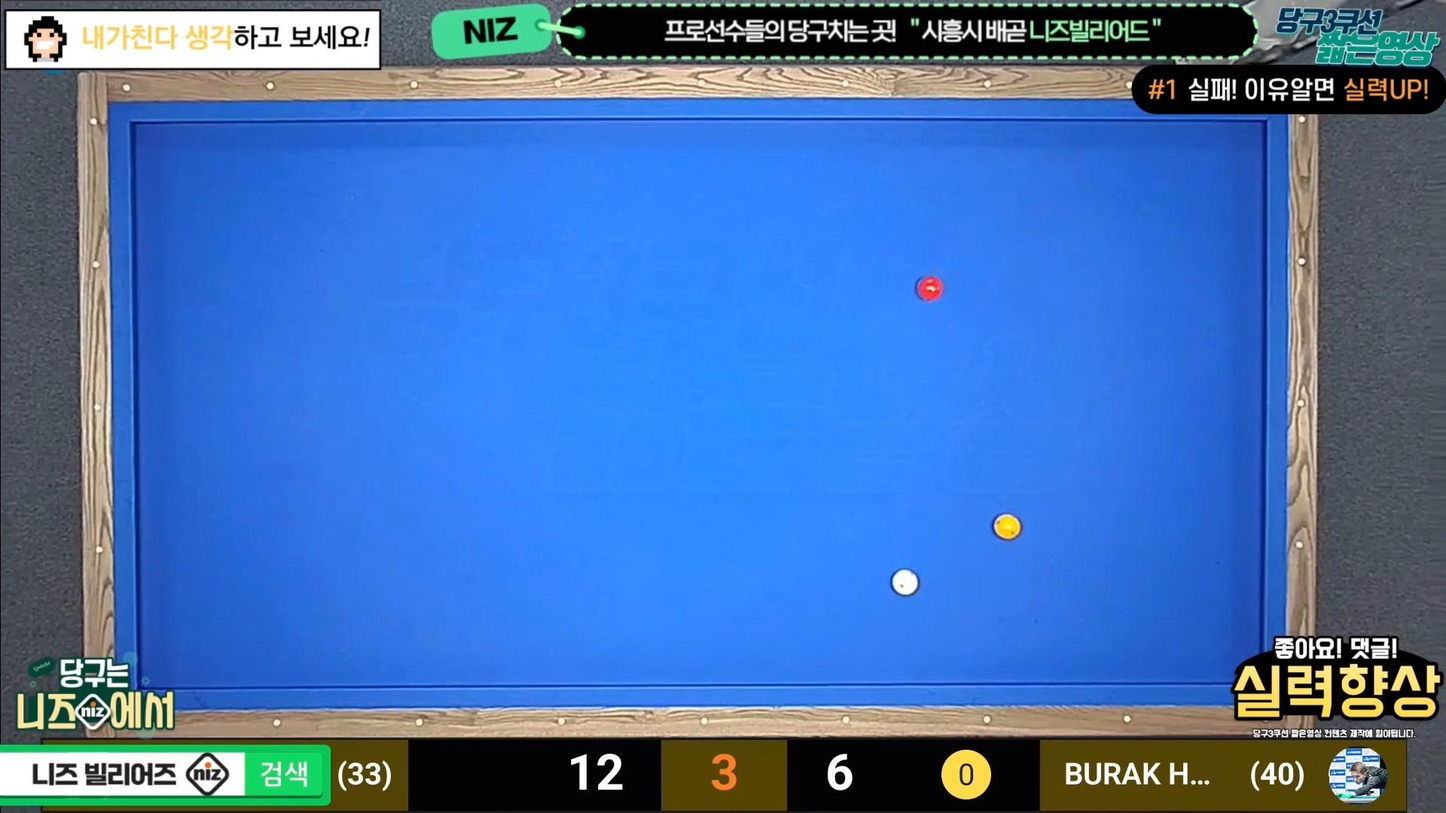Red: (917, 275, 950, 302)
White: (889, 570, 921, 598)
Yellow: (994, 515, 1028, 543)
billiard-ball-Red: (915, 272, 945, 302)
billiard-ball-Yellow: (992, 513, 1021, 541)
billiard-ball-white: (889, 568, 918, 597)
